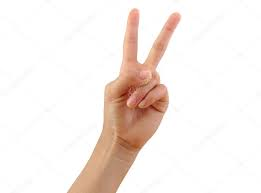hand: (92, 4, 196, 146)
